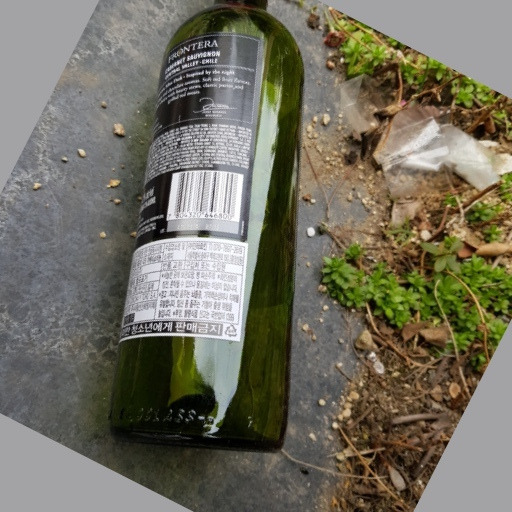Glass_2: (111, 2, 303, 455)
